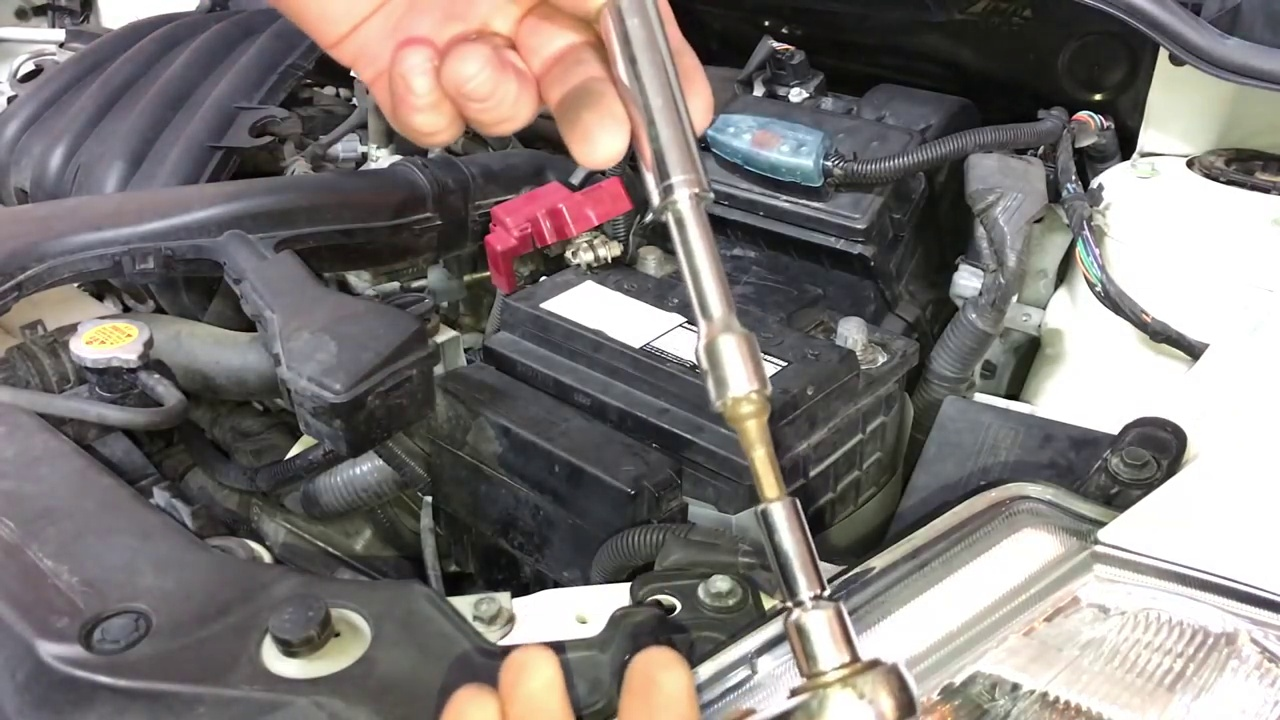battery: (471, 169, 914, 432)
neg_disconnected: (791, 271, 908, 382)
pos_disconnected: (465, 173, 670, 304)
pos_touched: (463, 41, 673, 296)
